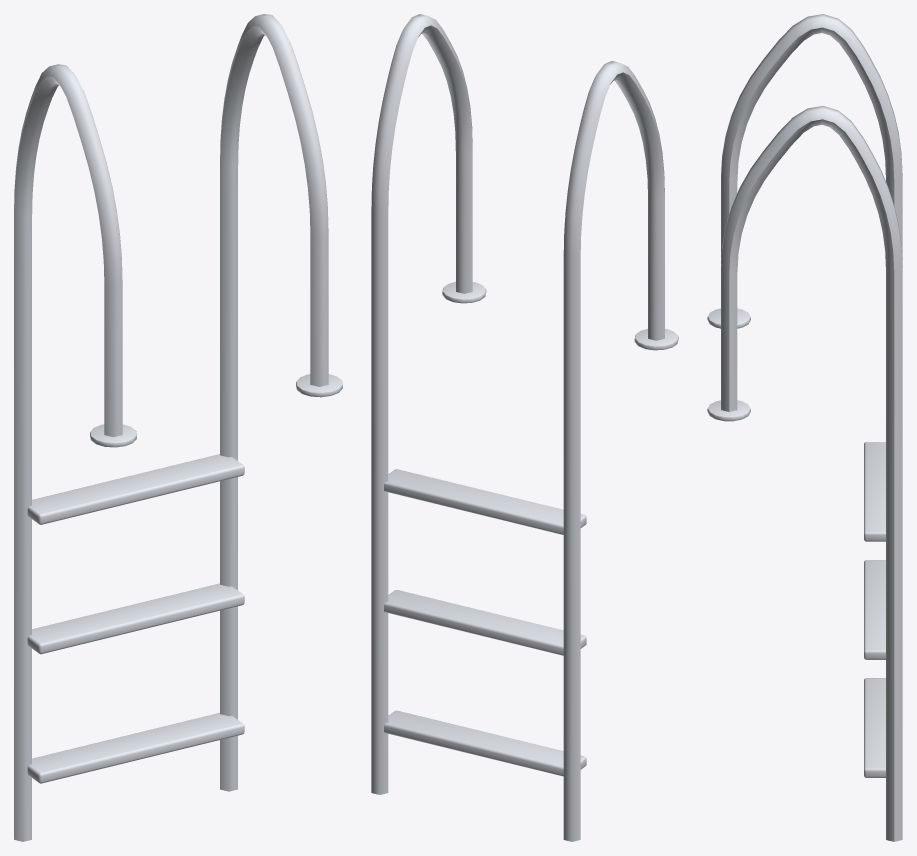
File: piscina_escadinha.glb
3 renders of one model, left to right at view 1: azimuth 30°, elevation 25°; view 2: azimuth 150°, elevation 25°; view 3: azimuth 270°, elevation 25°, orthographic. The views are drawn at different scales.
Visible parts, largest first — view 1: piscina_escadinha; view 2: piscina_escadinha; view 3: piscina_escadinha.
Boxes of the visible parts, left/top/right/bottom form: piscina_escadinha: left=14, top=14, right=342, bottom=841; piscina_escadinha: left=371, top=14, right=678, bottom=841; piscina_escadinha: left=707, top=14, right=902, bottom=841.
Bounding box in the file's own units: 0.5975 × 1.85 × 0.4491.
Materials: 1 (1 with a texture image).
